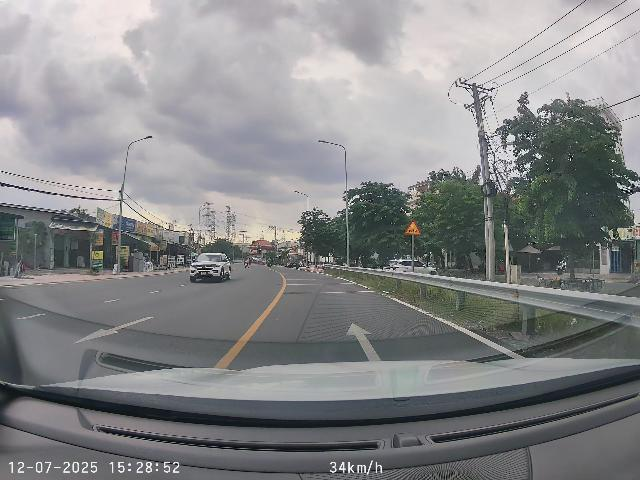245-di-cham: (404, 219, 422, 235)
